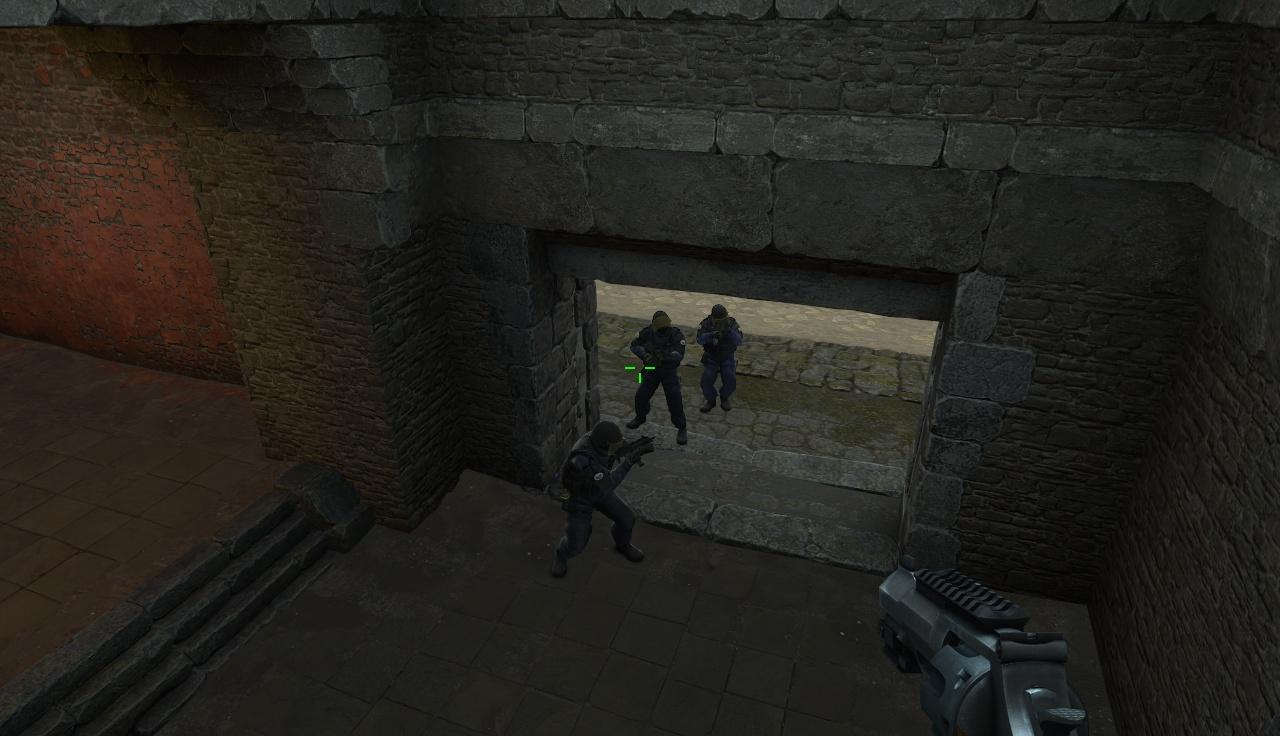ct: (560, 416, 635, 577), (639, 312, 692, 439), (699, 302, 740, 416)
cthead: (594, 422, 625, 455), (650, 311, 671, 332), (650, 312, 670, 334), (709, 306, 728, 326)
pistol: (870, 533, 1104, 736)
